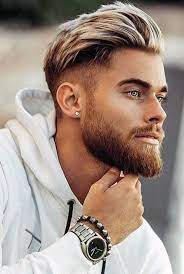b.y: (124, 125, 166, 179)
